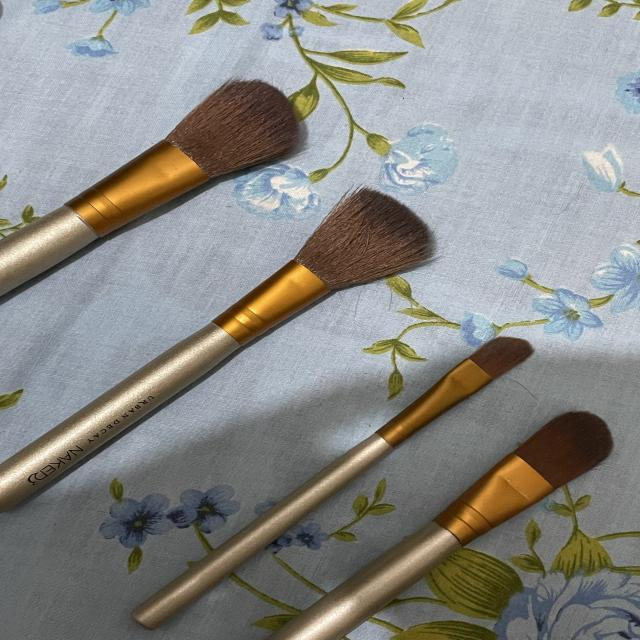brush: (0, 68, 640, 636), (112, 69, 329, 203), (272, 170, 453, 305), (494, 374, 632, 516), (417, 298, 551, 400)
